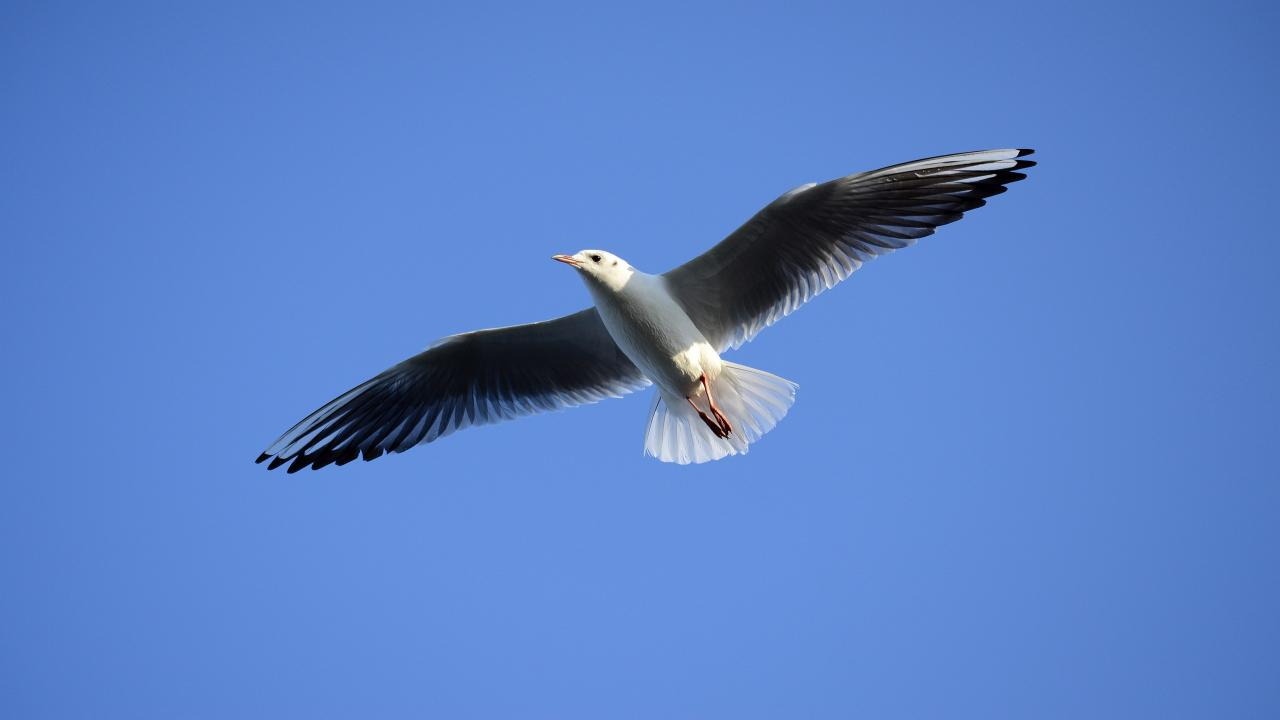Bird: (248, 139, 1047, 484)
